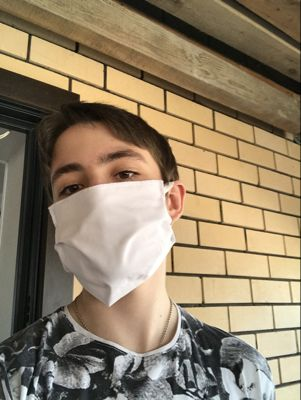with-mask: (35, 123, 190, 308)
